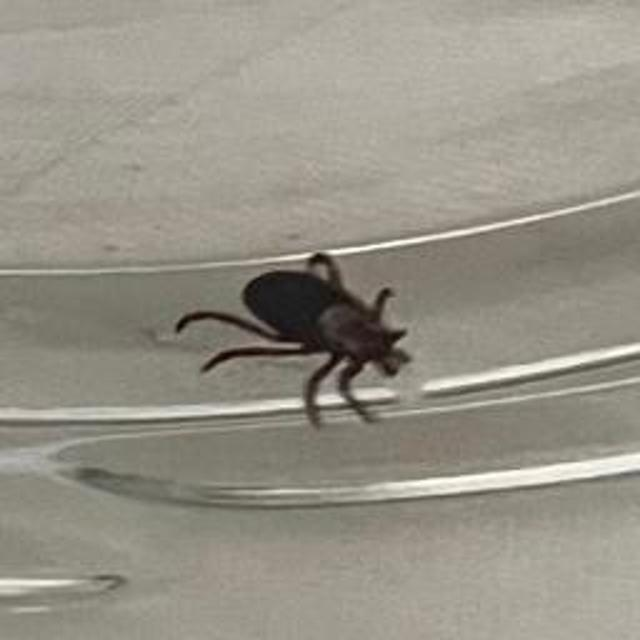Dermacentor variabilis: (173, 254, 412, 432)
